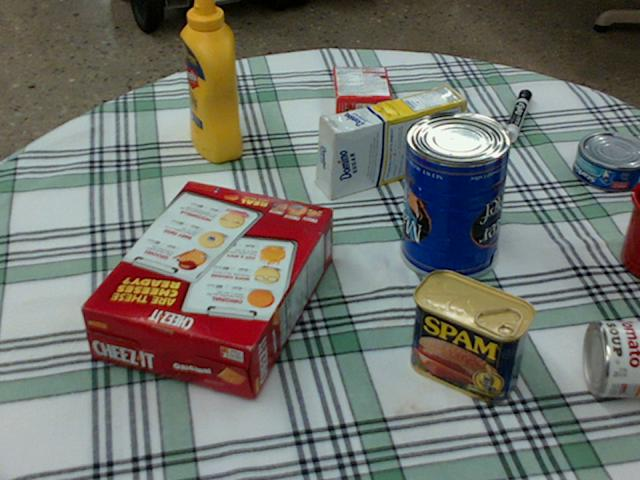cracker_box: (80, 183, 331, 397)
gelatin_box: (333, 66, 391, 114)
large_marker: (502, 89, 532, 141)
master_chef_can: (399, 110, 513, 279)
mug: (620, 182, 639, 279)
mustard_bottle: (180, 0, 240, 161)
potted_meat_can: (410, 270, 534, 401)
sugar_box: (316, 85, 465, 200)
tomato_soup_can: (584, 320, 639, 397)
tuna_fish_can: (574, 132, 639, 191)
